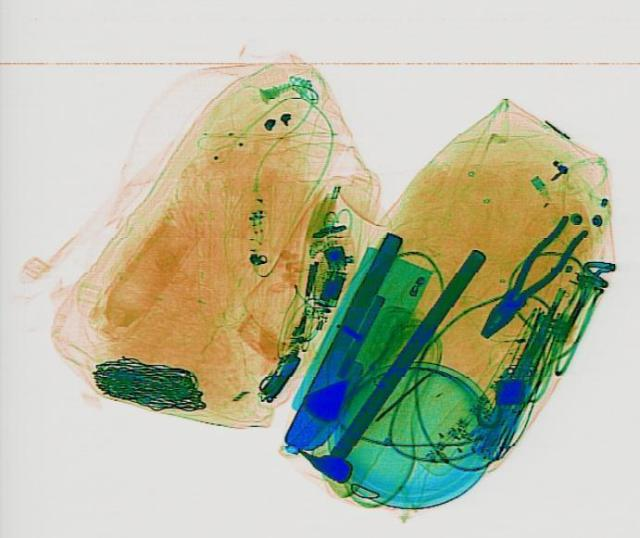Pliers: (466, 210, 594, 344)
